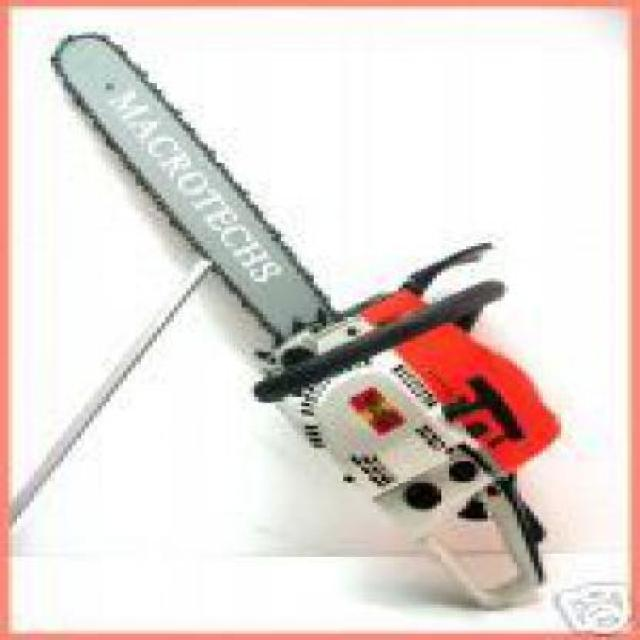Chainsaw: (46, 28, 577, 614)
